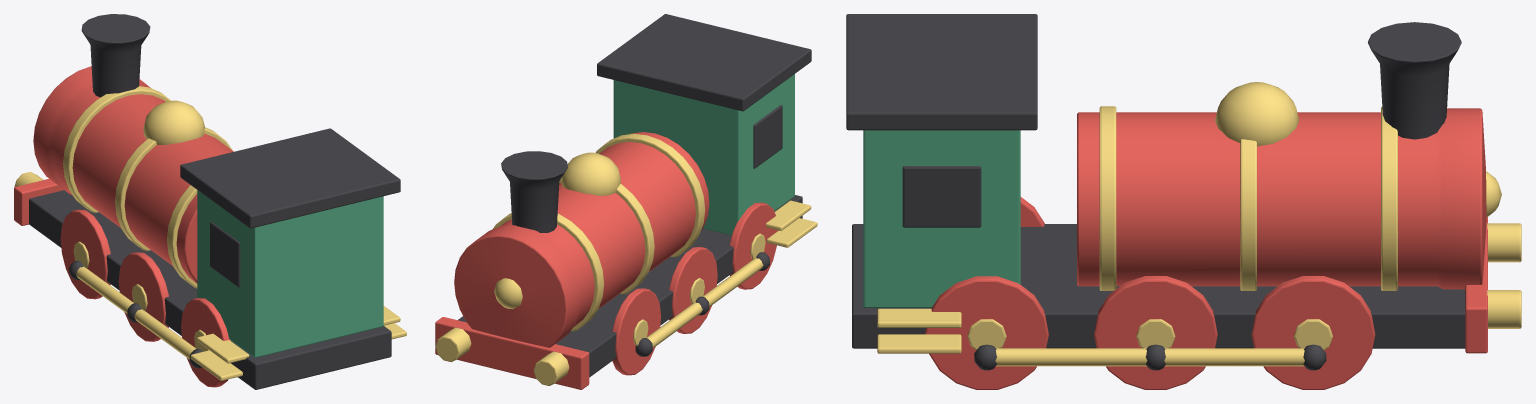
File: gartenbahn_lok.glb
The picture shows the model from 3 angles, left to right: view 1: azimuth 30°, elevation 25°; view 2: azimuth 150°, elevation 25°; view 3: azimuth 270°, elevation 25°; orthographic projection. The views are drawn at different scales.
Parts seen in each view (by area): view 1: gartenbahn_lok_lod0; view 2: gartenbahn_lok_lod0; view 3: gartenbahn_lok_lod0.
Boxes of the visible parts, x1,y1,x2,y2 form: gartenbahn_lok_lod0: (14, 14, 406, 389); gartenbahn_lok_lod0: (435, 14, 817, 389); gartenbahn_lok_lod0: (846, 14, 1521, 389).
Size of what is drawn, in the model's own units: 5.18 by 5.93 by 12.
